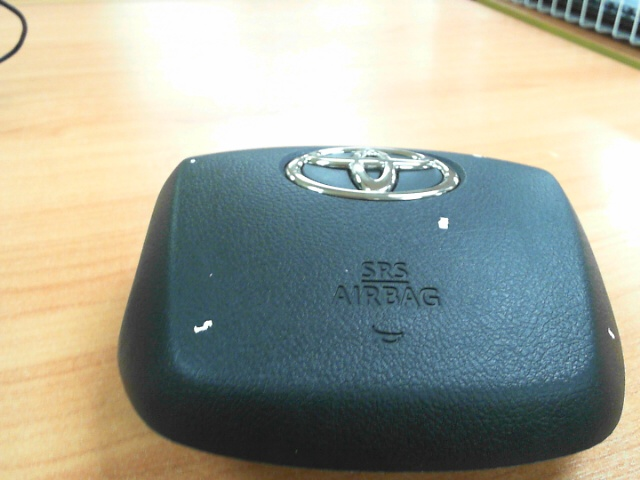Airbag: (194, 319, 214, 334), (437, 216, 449, 230), (607, 327, 615, 339), (190, 158, 196, 164)
